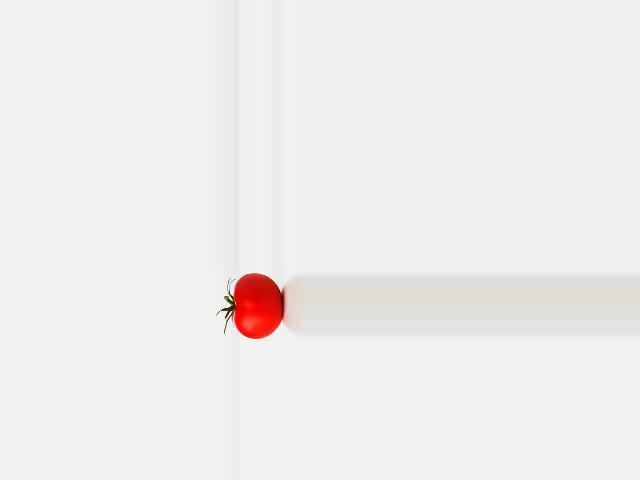tomato: (233, 274, 282, 339)
